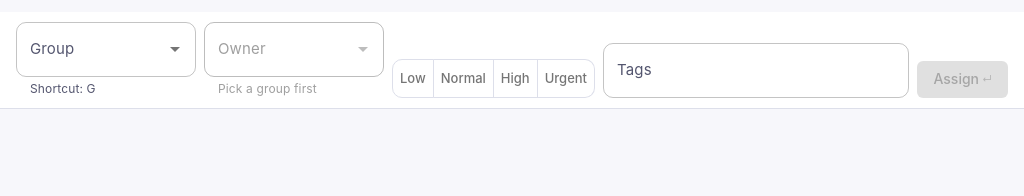
TriageBar › shows an inline alert when the ticket was already triaged
What coordinates should you click on to do the following:
click the dropdown labelled "Group"
I would click on:
 (91, 49)
Its box is [25,31,157,68].
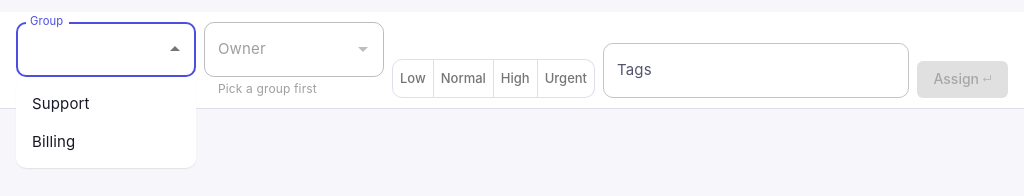
What coordinates should you click on to do the following:
click the option "Support"
I would click on:
 (61, 104)
Its box is [32,94,90,113].
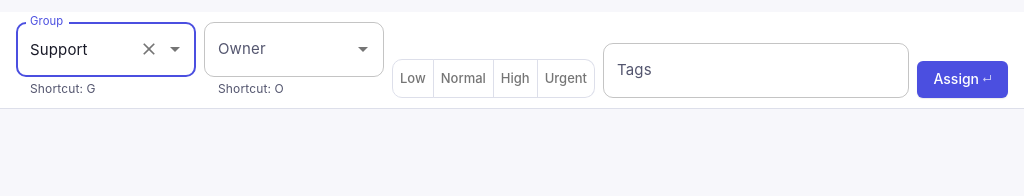
What coordinates should you click on to do the following:
click the button "Assign ↵"
I would click on:
 (963, 79)
Its box is [918,61,1008,98].
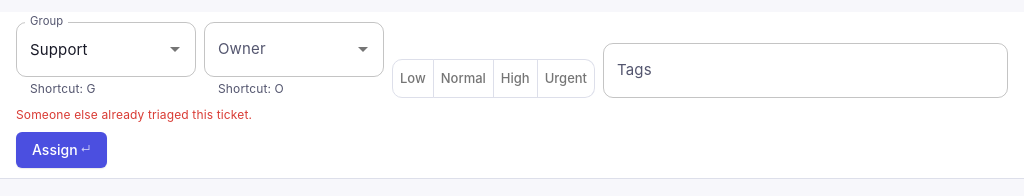
Check: the message reads "Someone else already triaged this ticket.", box [16,107,252,122]
